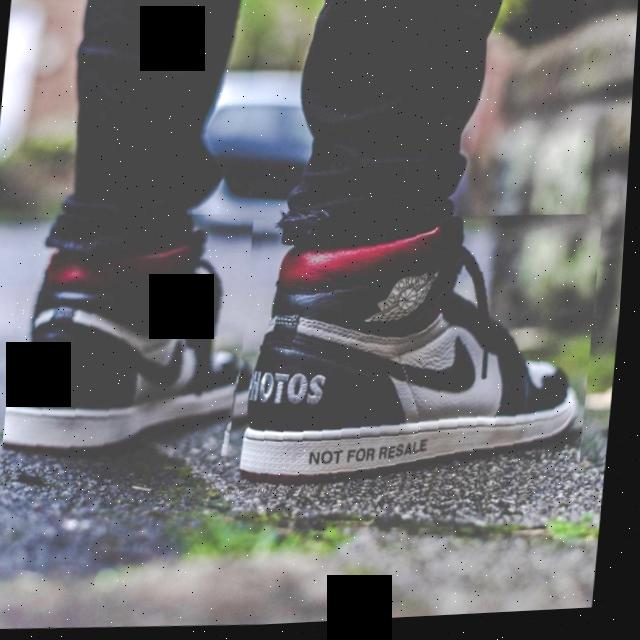shoe: (233, 208, 606, 512), (5, 207, 270, 475)
